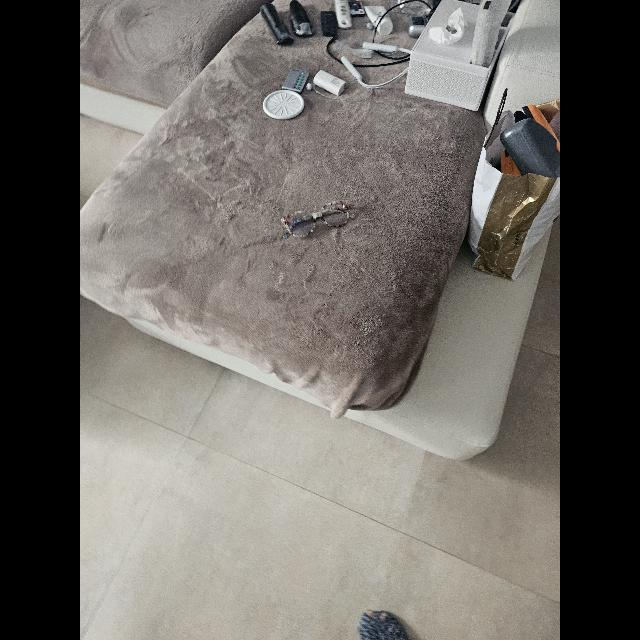glasses: (281, 201, 355, 239)
